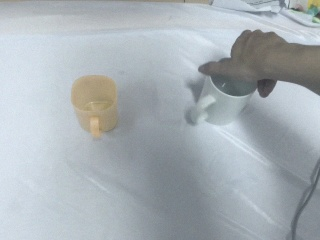cup: (186, 74, 257, 127), (70, 73, 120, 139)
